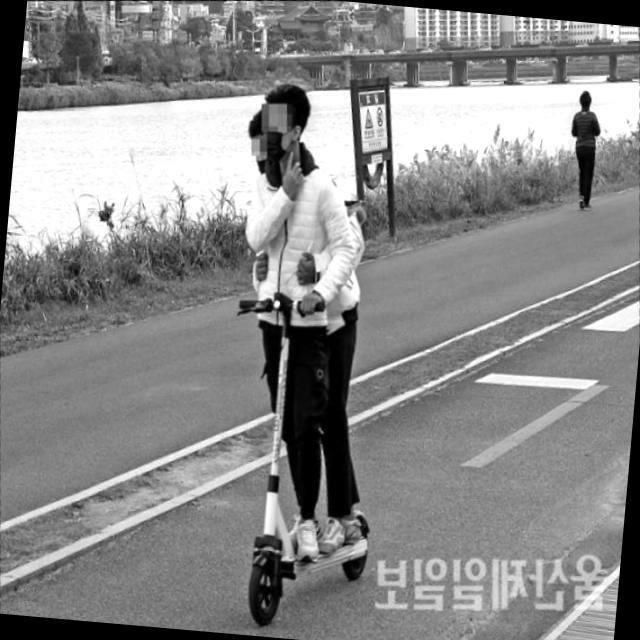bare_head: (252, 78, 312, 171), (242, 114, 291, 191)
human: (243, 112, 365, 560), (255, 84, 325, 565)
kickboard: (225, 515, 396, 627)
